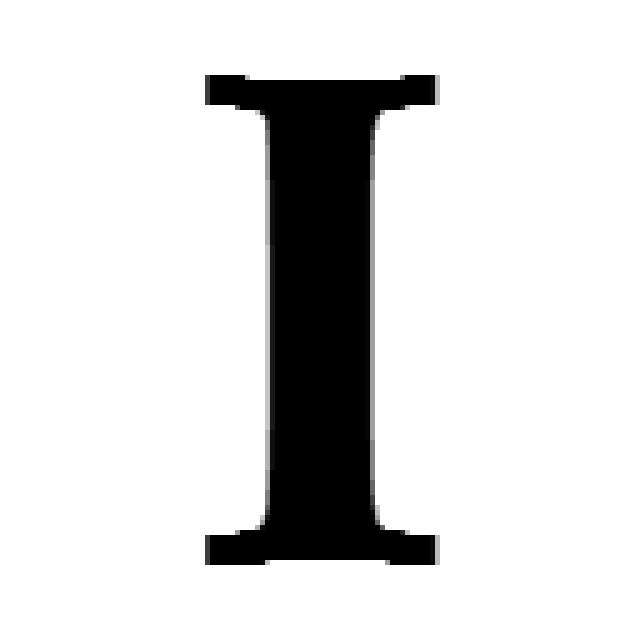I: (205, 75, 440, 565)
